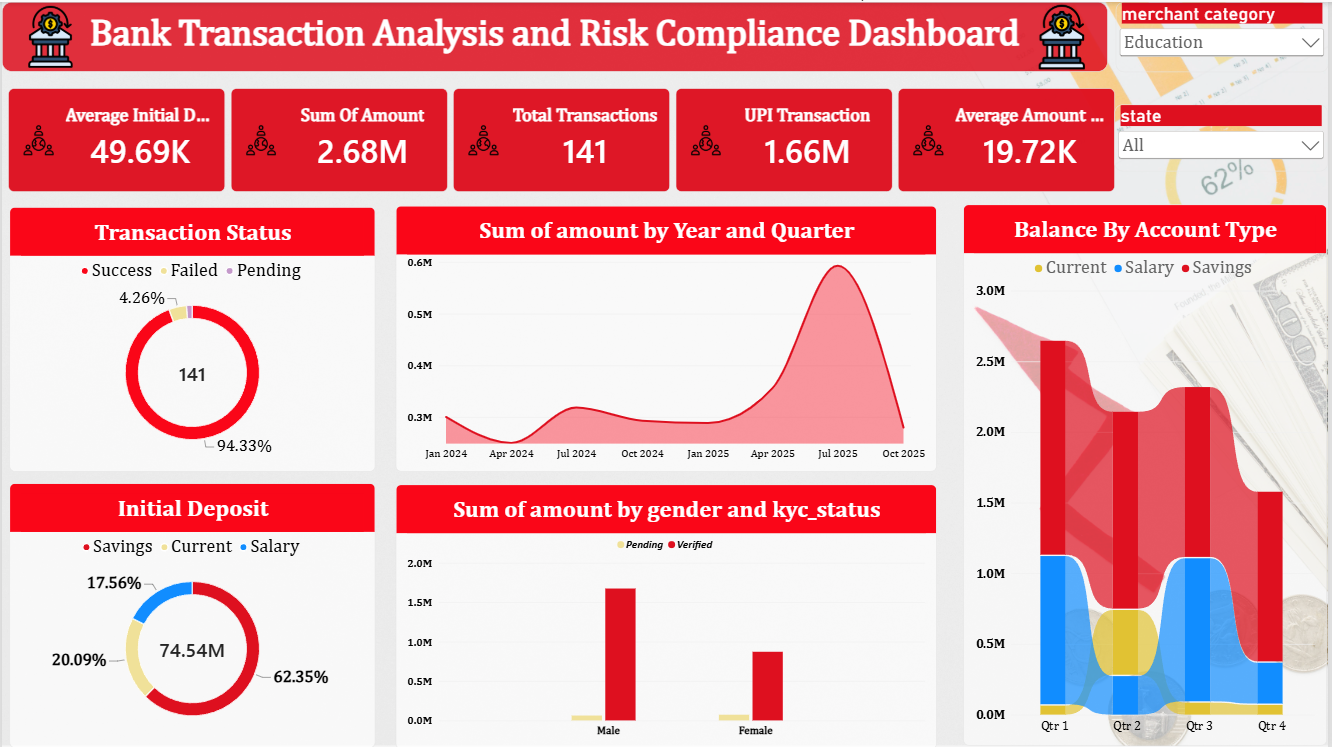

The page's visual inventory and layout, read from the dashboard file:
{"tool":"powerbi","page":{"name":"Dashboard","canvas":[1920,1080],"ordinal":1},"visuals":[{"type":"textbox","box":[0,0,1600.6,101],"z":0},{"type":"image","box":[26.2,0,89.8,101],"z":1000},{"type":"image","box":[1488.4,0,93.5,101],"z":2000},{"type":"cardVisual","fields":{"Data":["account_holders.Average Initial Deposit","account_holders.Sum Of Amount","bank_transactions.Total Transactions","bank_transactions.UPI Transaction","bank_transactions.Average Amount Success"]},"box":[9.3,124.7,1602.2,150.7],"z":3000},{"type":"donutChart","title":"Transaction Status","fields":{"Category":["bank_transactions.transaction_status"],"Y":["CountNonNull(bank_transactions.transaction_channel)"]},"box":[11.3,296.9,529.9,383.3],"z":4000},{"type":"areaChart","fields":{"Category":["bank_transactions.transaction_date.Variation.Date Hierarchy.Year","bank_transactions.transaction_date.Variation.Date Hierarchy.Quarter"],"Y":["Sum(bank_transactions.amount)"]},"box":[569.4,295.9,783.4,385.2],"z":5000},{"type":"donutChart","title":"Initial Deposit","fields":{"Category":["account_holders.account_type"],"Y":["Sum(account_holders.initial_deposit)"]},"box":[11.3,697.1,529.9,383.3],"z":6000},{"type":"clusteredColumnChart","fields":{"Category":["account_holders.gender"],"Series":["account_holders.kyc_status"],"Y":["Sum(bank_transactions.amount)"]},"box":[569.4,697.8,783.4,383.3],"z":7000},{"type":"ribbonChart","title":"Balance By Account Type","fields":{"Category":["bank_transactions.transaction_date.Variation.Date Hierarchy.Quarter"],"Series":["account_holders.account_type"],"Y":["Sum(bank_transactions.balance_after_transaction)"]},"box":[1391.9,294,526.6,783.6],"z":8000},{"type":"slicer","fields":{"Values":["bank_transactions.merchant_category"]},"box":[1612.4,0,307.6,101.3],"z":9000},{"type":"slicer","fields":{"Values":["account_holders.state"]},"box":[1611.5,148.9,308.9,96.8],"z":10000}]}

Visuals, with their boxes in screenshot pixels (x1, y1, x2, y2), scaled from the page's 1920x1080 canvas onto the 1332x747 screenshot:
textbox: 0, 0, 1110, 70
image: 18, 0, 80, 70
image: 1033, 0, 1097, 70
cardVisual - account_holders.Average Initial Deposit x account_holders.Sum Of Amount: 6, 86, 1118, 190
"Transaction Status" donutChart: 8, 205, 375, 470
areaChart - bank_transactions.transaction_date.Variation.Date Hierarchy.Year x bank_transactions.transaction_date.Variation.Date Hierarchy.Quarter: 395, 205, 939, 471
"Initial Deposit" donutChart: 8, 482, 375, 746
clusteredColumnChart - account_holders.gender x account_holders.kyc_status: 395, 483, 939, 746
"Balance By Account Type" ribbonChart: 966, 203, 1331, 745
slicer - bank_transactions.merchant_category: 1119, 0, 1331, 70
slicer - account_holders.state: 1118, 103, 1331, 170
